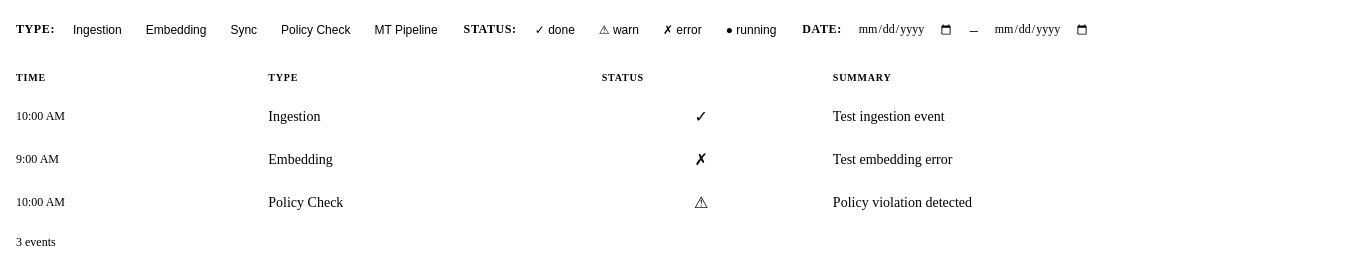
EventTable › filters by type when type filter is clicked
This screenshot has width=1358, height=263.
// Click "Ingestion" filter
Step 1. Click the button "Ingestion" → x=97, y=30, box [63, 16, 132, 42]
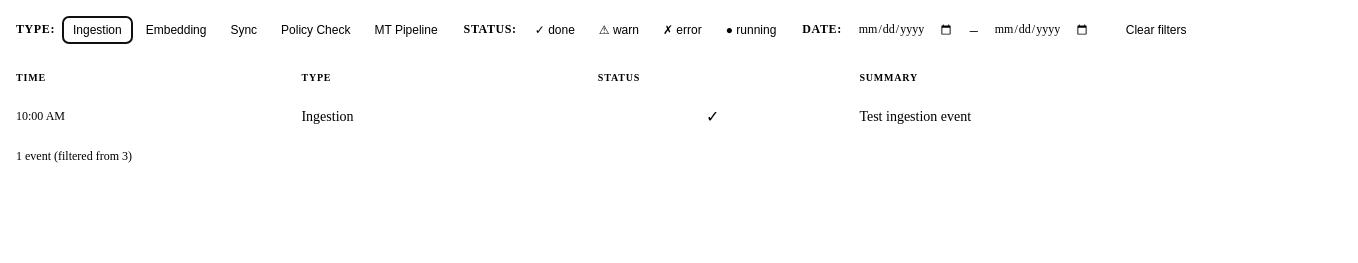
Now the text "Test embedding error" is gone
Now the text "Policy violation detected" is gone
Now the text "1 event (filtered from 3)" is shown, box [16, 149, 132, 163]
